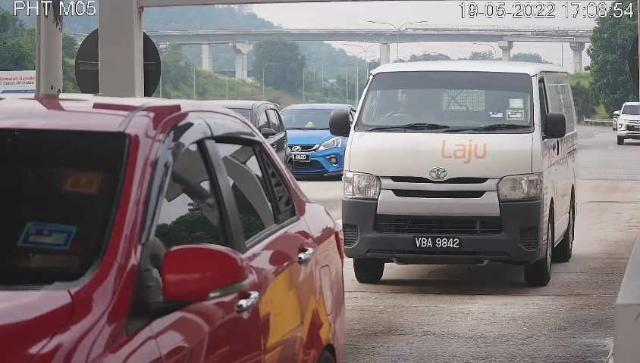License_Plate: (413, 235, 464, 256)
van: (343, 61, 578, 289)
